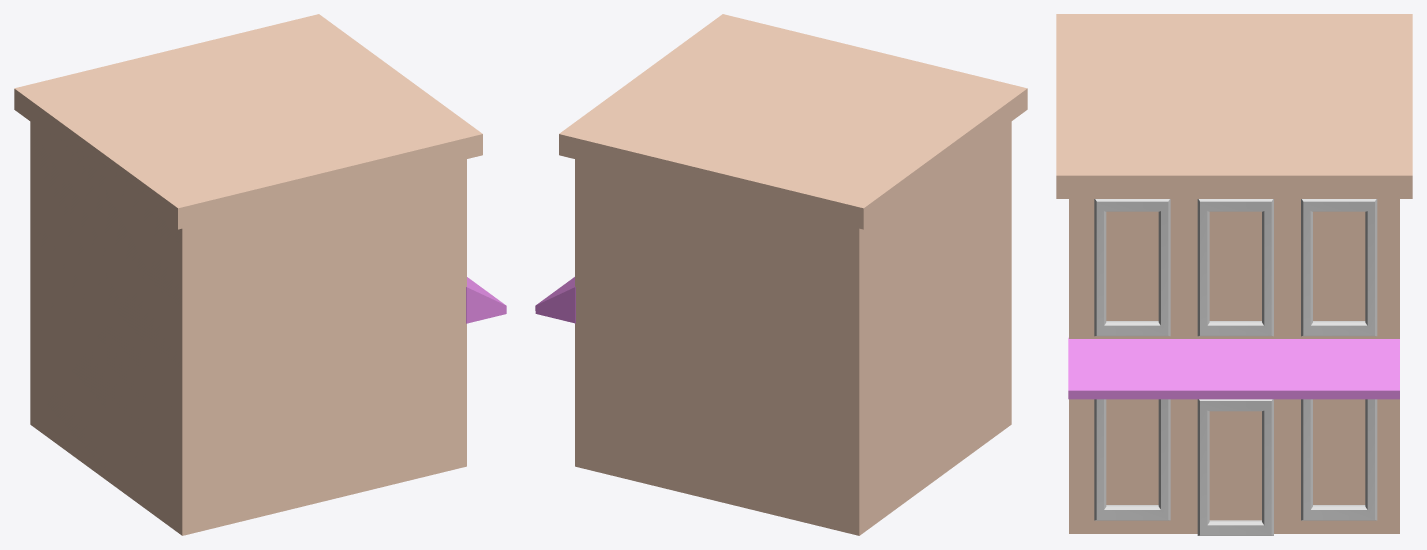
Rendered from apt3.FBX.
3 views of the same model, side by side, from view 1: azimuth 30°, elevation 25°; view 2: azimuth 150°, elevation 25°; view 3: azimuth 270°, elevation 25° (orthographic). The views are drawn at different scales.
Visible parts, largest first — view 1: Box026, Cylinder001; view 2: Box026, Cylinder001; view 3: Box026, Cylinder001, Rectangle007, Rectangle005, Rectangle006, Rectangle003, Rectangle004, Rectangle001.
Part boxes in pixels (<box>): Box026: <box>14,14,482,535</box>; Cylinder001: <box>466,277,506,323</box>; Box026: <box>559,14,1027,535</box>; Cylinder001: <box>535,277,575,323</box>; Box026: <box>1056,14,1412,533</box>; Cylinder001: <box>1068,337,1399,399</box>; Rectangle007: <box>1094,199,1170,336</box>; Rectangle005: <box>1301,199,1377,336</box>; Rectangle006: <box>1197,199,1273,336</box>; Rectangle003: <box>1197,399,1273,535</box>; Rectangle004: <box>1094,399,1170,520</box>; Rectangle001: <box>1301,399,1377,520</box>.
Size of the model in its own units: 129 by 124 by 110.
